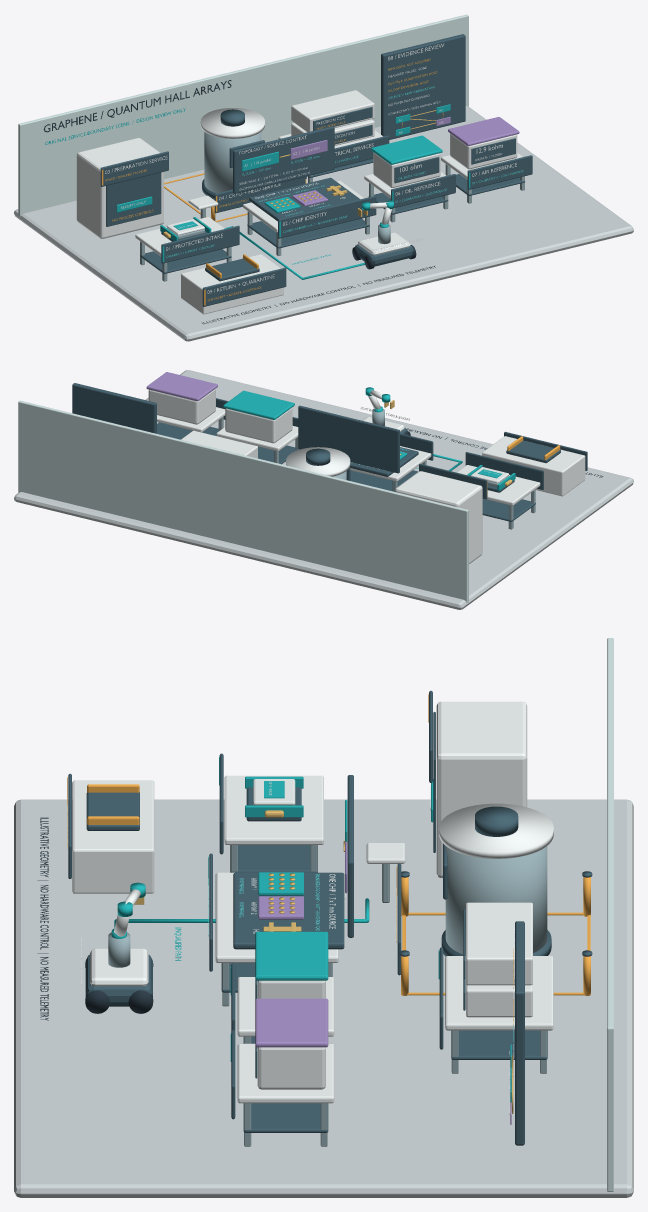
File: qha_lab.glb
The picture shows the model from 3 angles, top to bottom: view 1: azimuth 30°, elevation 25°; view 2: azimuth 150°, elevation 25°; view 3: azimuth 270°, elevation 25°; orthographic projection. The views are drawn at different scales.
Parts seen in each view (by area): view 1: design_floor, backdrop, AS09.review_panel, AS04.preparation_enclosure, AS03.topology_board, AS04.closed_door, AS10.return_platform, map_label_back, AS06.ccc_cabinet, AS02.explanation_back, AS05.closed_cryostat, return_label_back (+25 smaller); view 2: backdrop, design_floor, AS03.topology_board, AS04.preparation_enclosure, AS09.review_panel, AS10.return_platform, AS07.closed_reference_enclosure, AS08.closed_reference_enclosure, AS07.sealed_lid, AS08.sealed_lid, AS05.top_cap, intake_label_back (+15 smaller); view 3: design_floor, AS04.preparation_enclosure, AS10.return_platform, AS05.closed_cryostat, AS02.explanation_back, AS06.ccc_cabinet, intake_top, AS05.top_cap, precision_top, backdrop, AS07.sealed_lid, AS08.sealed_lid (+20 smaller).
Boxes of the visible parts, left/top/right/bottom form: design_floor: left=14, top=106, right=633, bottom=341; backdrop: left=18, top=14, right=468, bottom=216; AS09.review_panel: left=381, top=34, right=465, bottom=139; AS04.preparation_enclosure: left=76, top=138, right=163, bottom=238; AS03.topology_board: left=233, top=126, right=334, bottom=193; AS04.closed_door: left=106, top=172, right=161, bottom=226; AS10.return_platform: left=181, top=254, right=283, bottom=314; map_label_back: left=278, top=196, right=376, bottom=238; AS06.ccc_cabinet: left=291, top=90, right=374, bottom=132; AS02.explanation_back: left=249, top=177, right=359, bottom=221; AS05.closed_cryostat: left=204, top=132, right=261, bottom=193; return_label_back: left=202, top=267, right=286, bottom=306; backdrop: left=18, top=400, right=468, bottom=602; design_floor: left=14, top=370, right=633, bottom=609; AS03.topology_board: left=298, top=405, right=399, bottom=473; AS04.preparation_enclosure: left=395, top=471, right=482, bottom=563; AS09.review_panel: left=72, top=383, right=156, bottom=433; AS10.return_platform: left=482, top=436, right=585, bottom=496; AS07.closed_reference_enclosure: left=225, top=407, right=292, bottom=443; AS08.closed_reference_enclosure: left=148, top=388, right=215, bottom=424; AS07.sealed_lid: left=223, top=390, right=294, bottom=419; AS08.sealed_lid: left=146, top=372, right=217, bottom=401; AS05.top_cap: left=286, top=447, right=350, bottom=476; intake_label_back: left=465, top=452, right=543, bottom=489; design_floor: left=14, top=799, right=633, bottom=1197; AS04.preparation_enclosure: left=436, top=701, right=527, bottom=877; AS10.return_platform: left=72, top=780, right=154, bottom=893; AS05.closed_cryostat: left=445, top=846, right=547, bottom=955; AS02.explanation_back: left=233, top=872, right=344, bottom=949; AS06.ccc_cabinet: left=466, top=902, right=532, bottom=985; intake_top: left=224, top=775, right=323, bottom=844; AS05.top_cap: left=439, top=803, right=553, bottom=858; precision_top: left=445, top=956, right=553, bottom=1030; backdrop: left=607, top=638, right=613, bottom=1191; AS07.sealed_lid: left=255, top=931, right=328, bottom=980; AS08.sealed_lid: left=255, top=998, right=328, bottom=1047.
Bounding box in the file's own units: 15.8 × 3.46 × 10.6.
